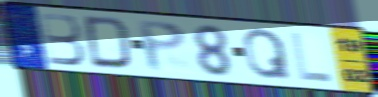8: (190, 23, 234, 78)
B: (37, 11, 88, 67)
D: (82, 14, 134, 72)
L: (289, 30, 335, 84)
P: (135, 19, 188, 74)
Q: (242, 27, 293, 81)
